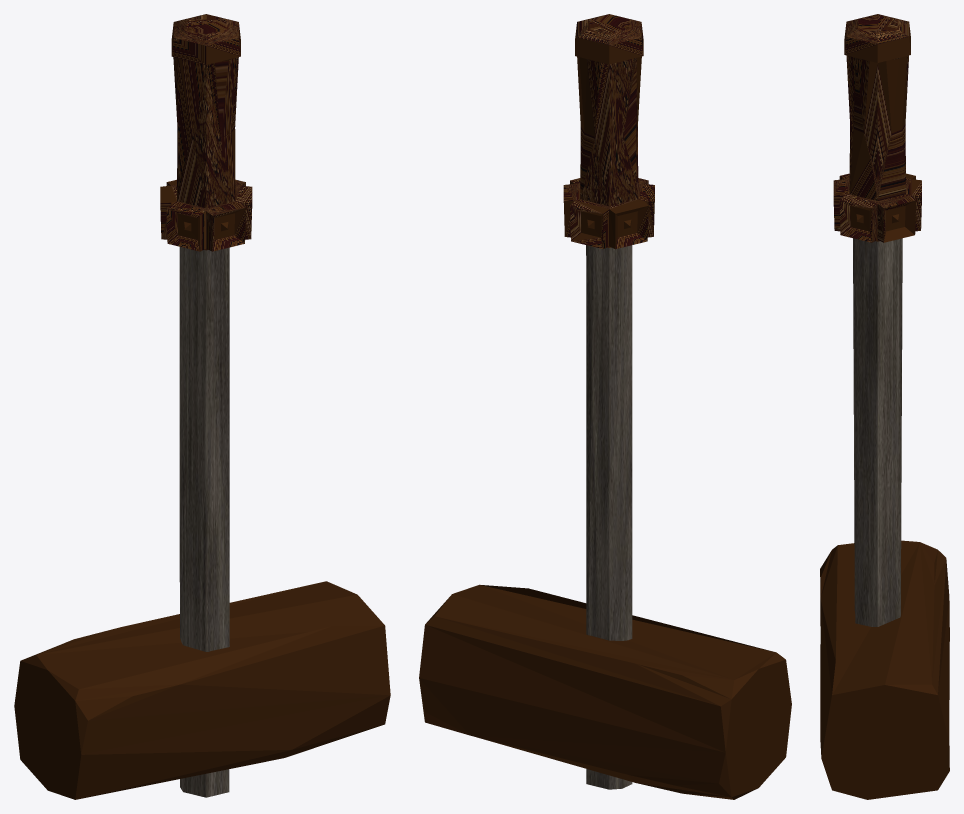
The model's file is mallet410_wtf.obj.
3 renders of one model, left to right at view 1: azimuth 30°, elevation 25°; view 2: azimuth 150°, elevation 25°; view 3: azimuth 270°, elevation 25°, orthographic. The views are drawn at different scales.
Visible parts, largest first — view 1: group3, group5, group6; view 2: group3, group5, group6; view 3: group3, group5, group6.
Boxes of the visible parts, x1=… form: group3: x1=14, y1=581, x2=390, y2=799; group5: x1=179, y1=247, x2=229, y2=797; group6: x1=160, y1=14, x2=252, y2=251; group3: x1=419, y1=584, x2=791, y2=799; group5: x1=586, y1=245, x2=632, y2=789; group6: x1=563, y1=14, x2=654, y2=249; group3: x1=820, y1=540, x2=949, y2=799; group5: x1=853, y1=238, x2=902, y2=626; group6: x1=833, y1=14, x2=921, y2=242.
Size of the model in its own units: 281 by 660 by 106.
